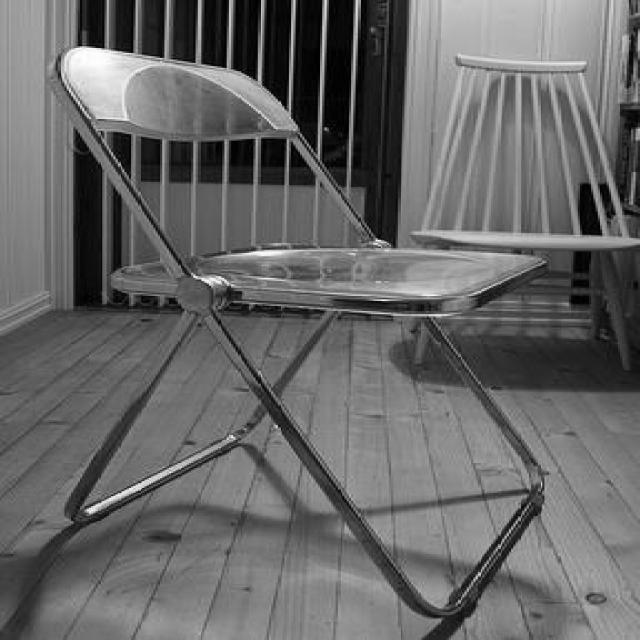chair: (48, 42, 544, 620), (422, 50, 638, 388)
